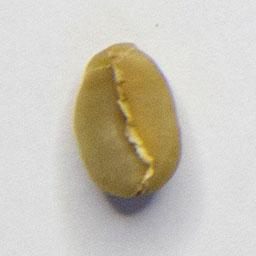premium: (70, 39, 186, 202)
